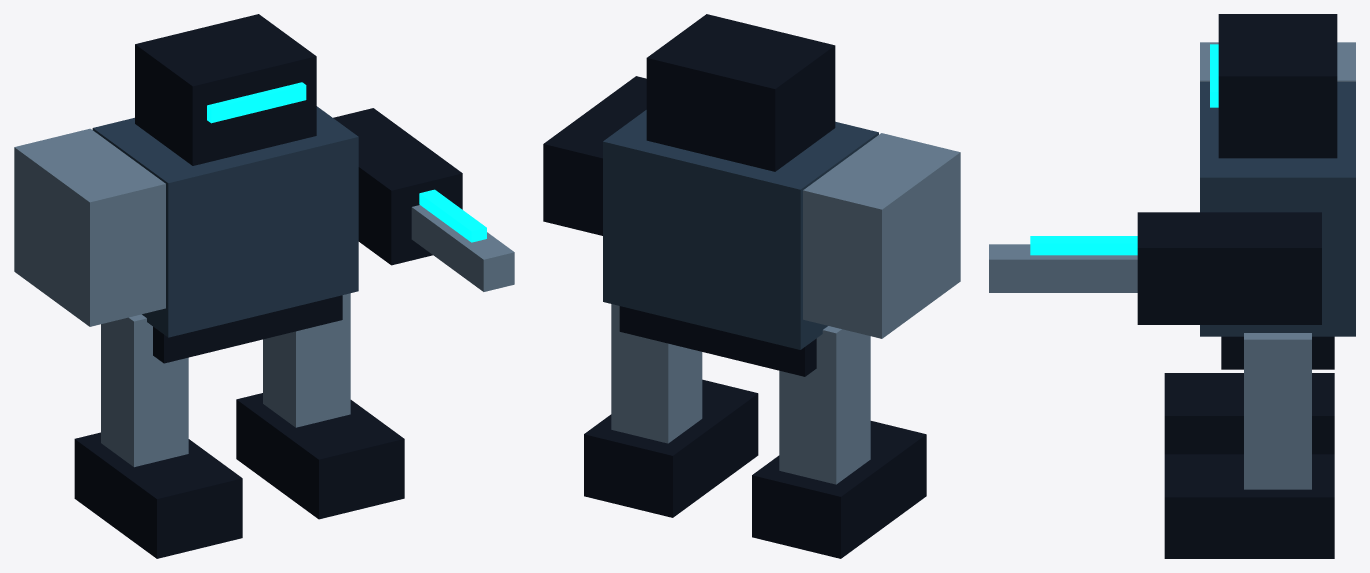
Rendered from sentinel_low.glb.
3 views of the same model, side by side, from view 1: azimuth 30°, elevation 25°; view 2: azimuth 150°, elevation 25°; view 3: azimuth 270°, elevation 25° (orthographic). The views are drawn at different scales.
Parts seen in each view (by area): view 1: Torso, Shoulder shield, Helmet, Foot, Foot.001, Leg actuator, Weapon cradle, Leg actuator.001, Pelvis, Accelerator barrel, Visor, Weapon tracer; view 2: Torso, Shoulder shield, Helmet, Foot.001, Foot, Leg actuator, Leg actuator.001, Weapon cradle, Pelvis; view 3: Weapon cradle, Helmet, Torso, Foot.001, Leg actuator.001, Foot, Accelerator barrel, Weapon tracer, Pelvis, Shoulder shield, Visor.
Part boxes in pixels (bbox=[...]): Torso: bbox=[92, 106, 358, 337]; Shoulder shield: bbox=[14, 128, 165, 326]; Helmet: bbox=[135, 14, 316, 165]; Foot: bbox=[74, 432, 242, 558]; Foot.001: bbox=[236, 393, 404, 519]; Leg actuator: bbox=[101, 314, 188, 467]; Weapon cradle: bbox=[333, 108, 462, 265]; Leg actuator.001: bbox=[263, 293, 350, 427]; Pelvis: bbox=[153, 295, 342, 363]; Accelerator barrel: bbox=[411, 205, 514, 291]; Visor: bbox=[207, 82, 306, 123]; Weapon tracer: bbox=[419, 189, 486, 242]; Torso: bbox=[603, 110, 878, 349]; Shoulder shield: bbox=[803, 133, 960, 338]; Helmet: bbox=[646, 14, 835, 171]; Foot.001: bbox=[584, 379, 758, 517]; Foot: bbox=[752, 421, 926, 558]; Leg actuator: bbox=[779, 326, 870, 484]; Leg actuator.001: bbox=[611, 304, 702, 443]; Weapon cradle: bbox=[543, 76, 646, 235]; Pelvis: bbox=[619, 306, 816, 376]; Weapon cradle: bbox=[1137, 212, 1321, 324]; Helmet: bbox=[1218, 14, 1337, 158]; Torso: bbox=[1200, 82, 1355, 336]; Foot.001: bbox=[1164, 454, 1334, 558]; Leg actuator.001: bbox=[1244, 333, 1311, 489]; Foot: bbox=[1164, 373, 1334, 454]; Accelerator barrel: bbox=[989, 244, 1137, 292]; Weapon tracer: bbox=[1030, 236, 1137, 255]; Pelvis: bbox=[1221, 336, 1334, 369]; Shoulder shield: bbox=[1200, 42, 1355, 81]; Visor: bbox=[1210, 44, 1218, 107].
Bounding box in the file's own units: 1.44 × 1.76 × 1.3.
